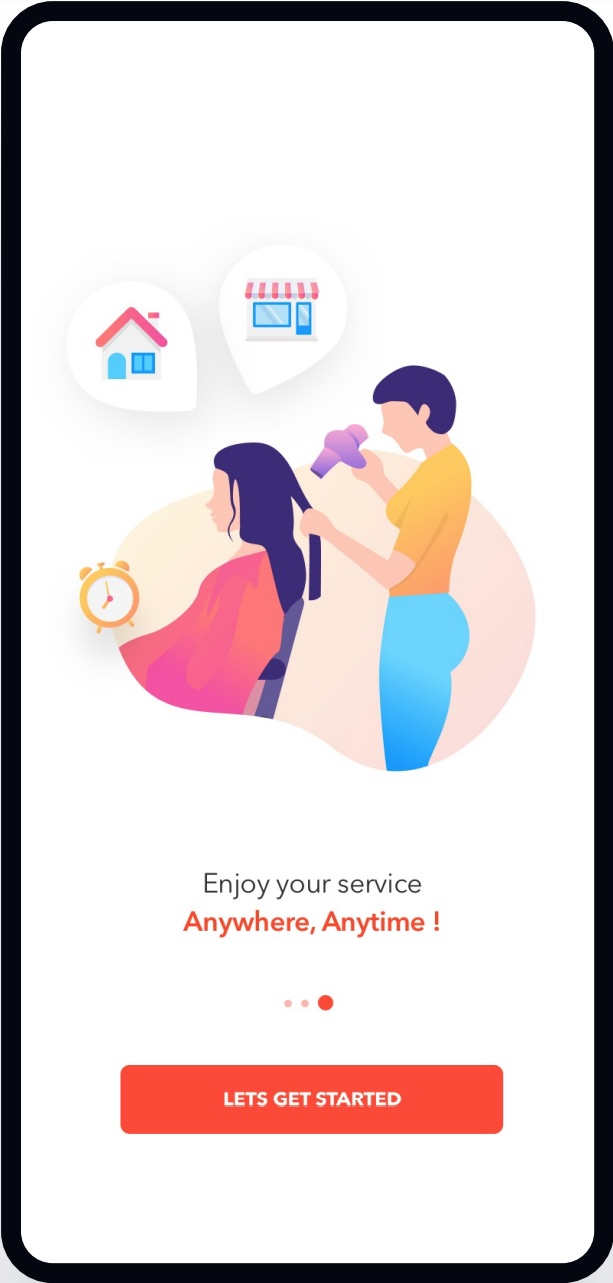Image: (65, 244, 537, 772)
PageIndicator: (283, 994, 335, 1012)
Text: (182, 909, 440, 940), (204, 871, 423, 901)
TextButton: (120, 1064, 504, 1135)
